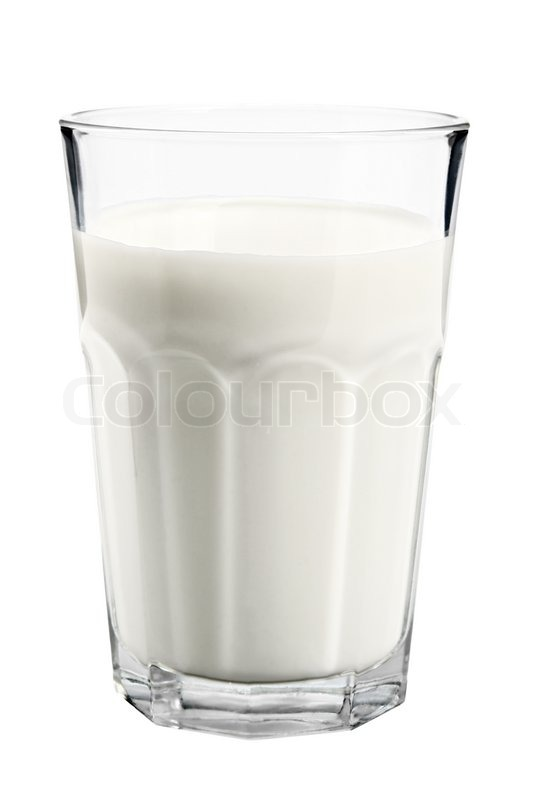glass of milk: (53, 109, 466, 727)
